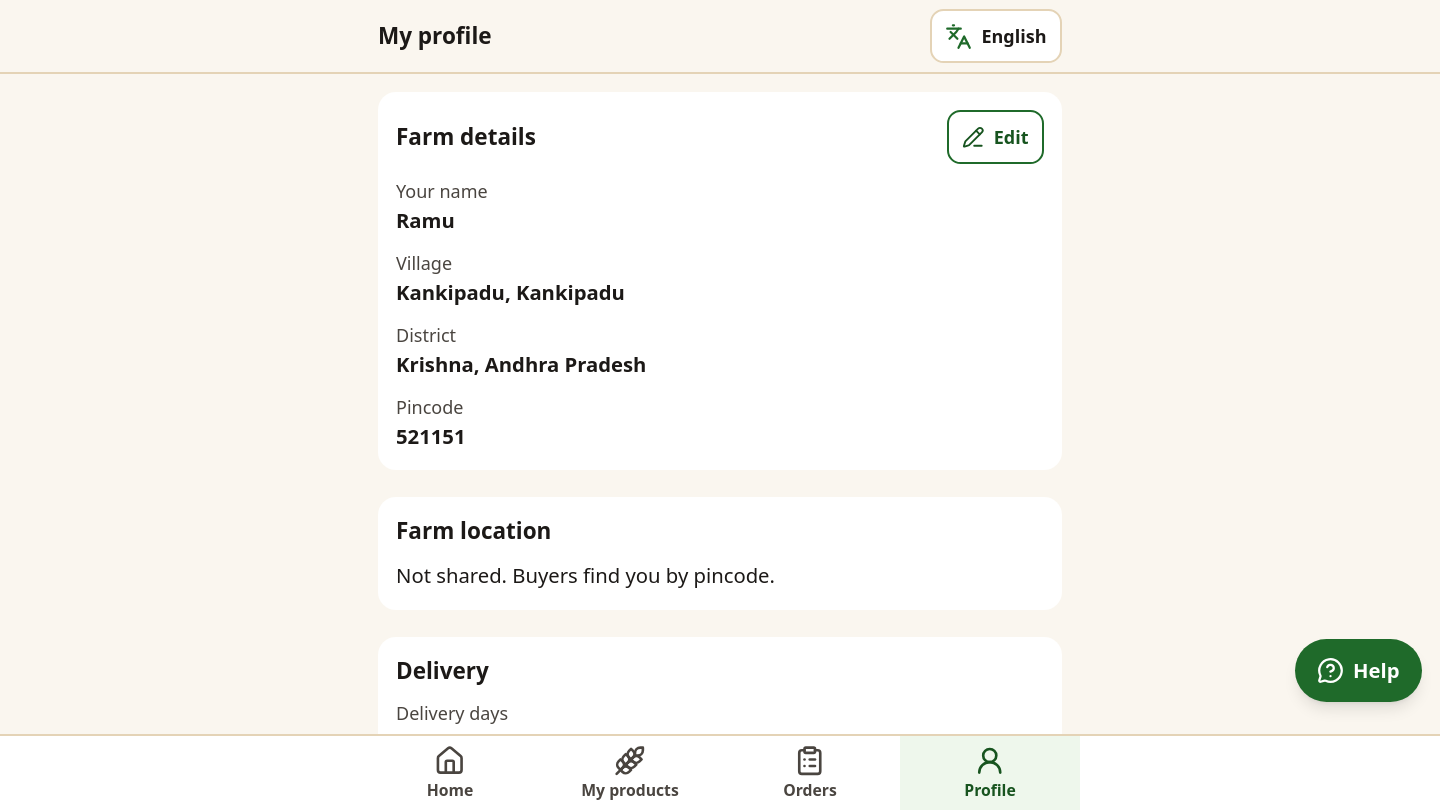
Test: farmer profile › does not save a profile with problems and says where they are
Click the button "Edit" at point(995, 137), box [947,110,1044,164]
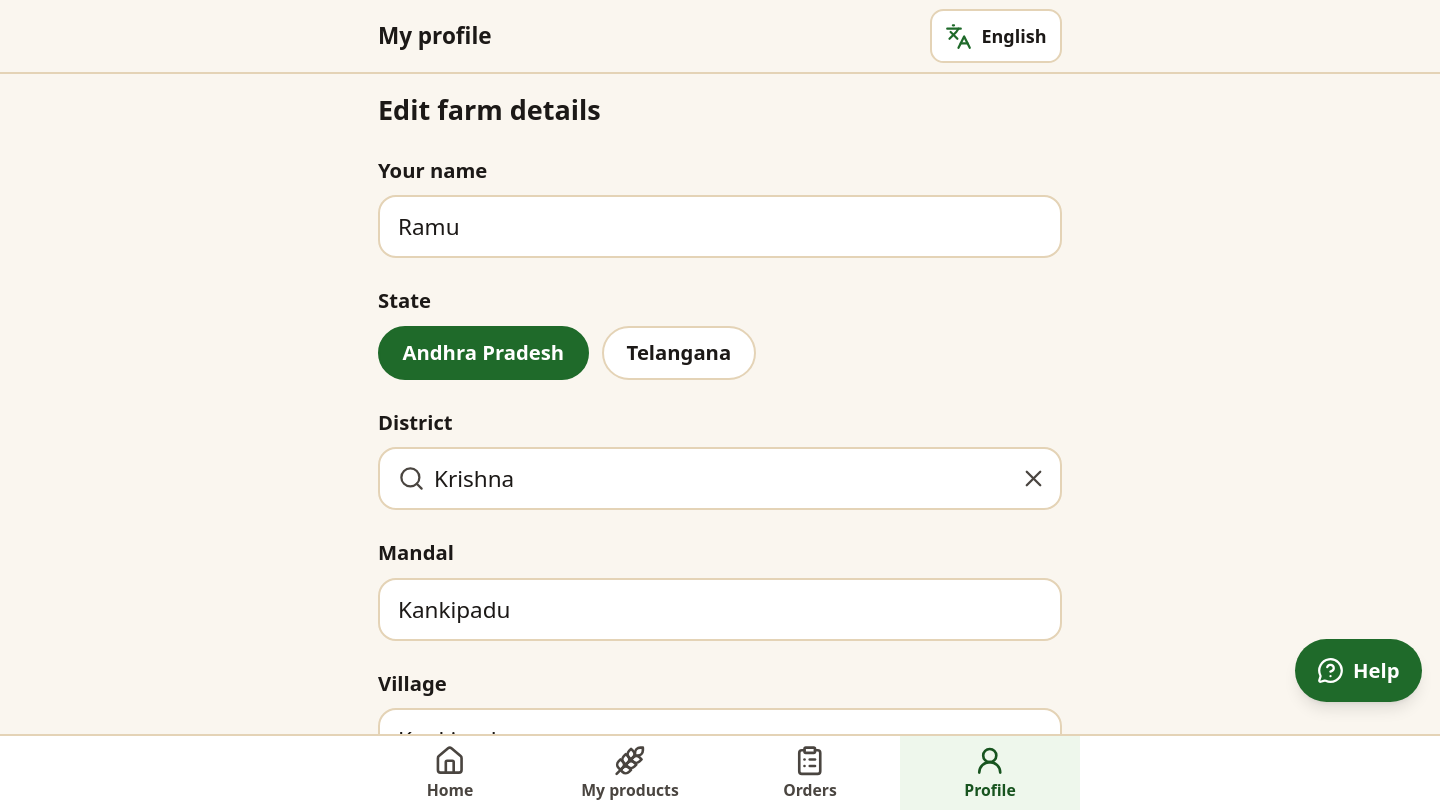
Clear the field labelled "Your name" at point(720, 227), box [380,198,1060,256]
(page scrolled)
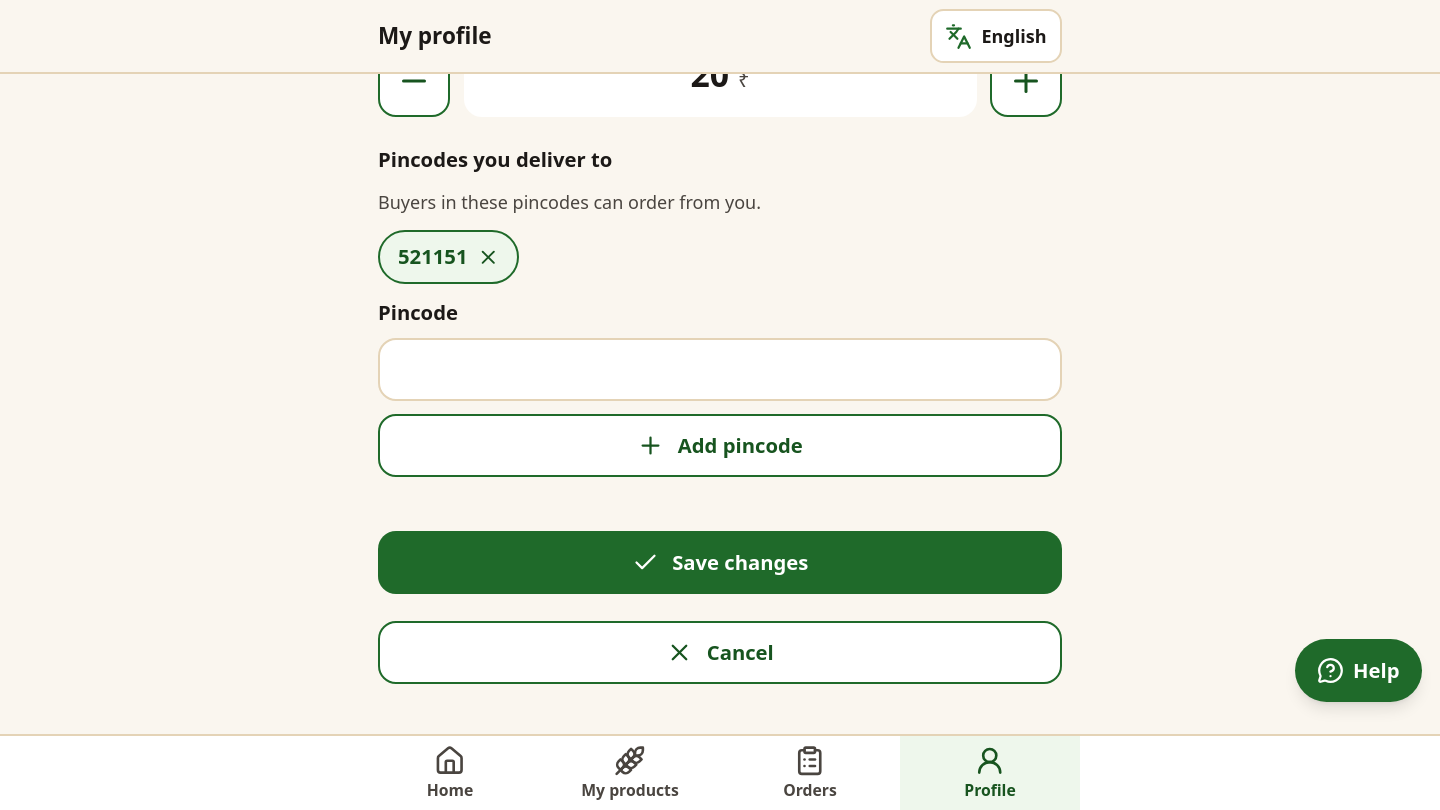
Click the button "Save changes" at point(720, 563), box [378,532,1062,594]
(page scrolled)
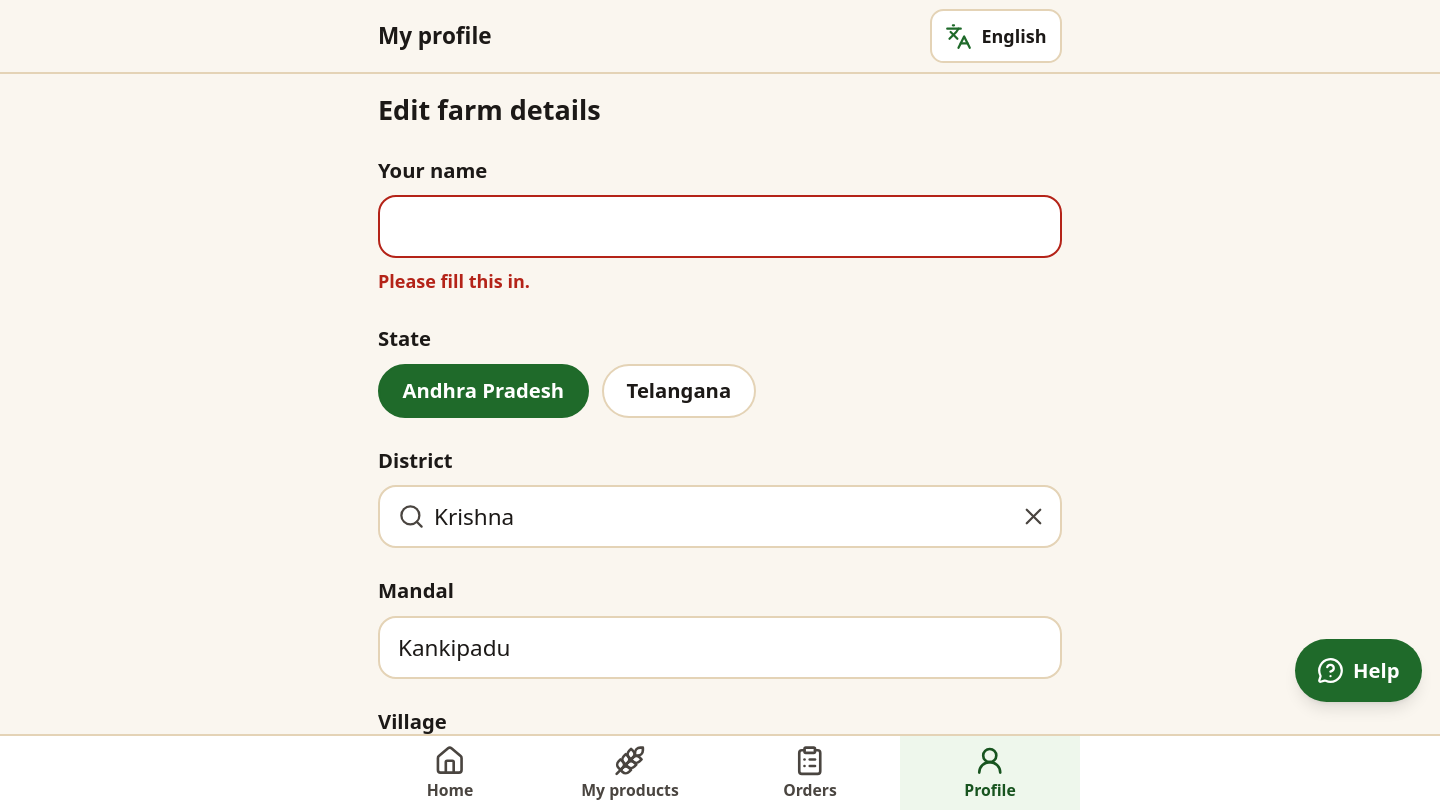
Check: the text "Please fill this in." is shown, box [378,270,530,294]
